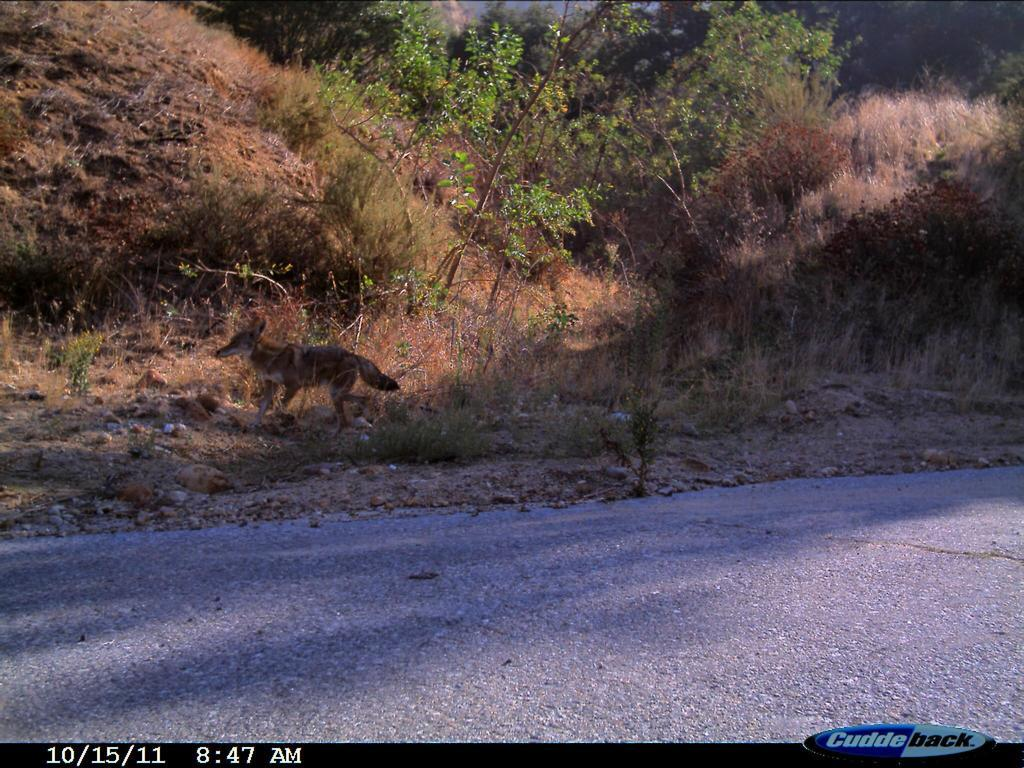coyote: (213, 320, 404, 442)
